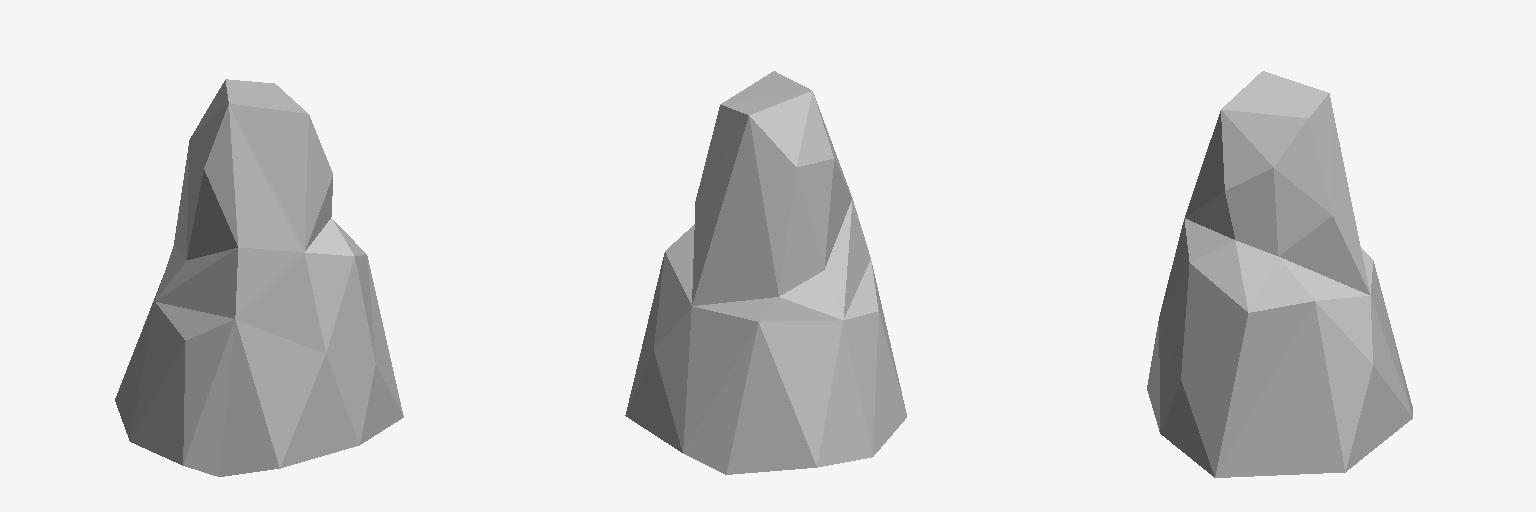
The model's file is Stone_large_001.obj.
3 views of the same model, side by side, from view 1: azimuth 30°, elevation 25°; view 2: azimuth 150°, elevation 25°; view 3: azimuth 270°, elevation 25° (orthographic).
Visible parts, largest first — view 1: Stone_large_001_Icosphere.004; view 2: Stone_large_001_Icosphere.004; view 3: Stone_large_001_Icosphere.004.
Boxes of the visible parts, box(x1,y1,x2,y2) form: Stone_large_001_Icosphere.004: box(115, 79, 403, 476); Stone_large_001_Icosphere.004: box(625, 71, 906, 474); Stone_large_001_Icosphere.004: box(1147, 71, 1412, 477).
Bounding box in the file's own units: 3.69 × 5.12 × 3.68.